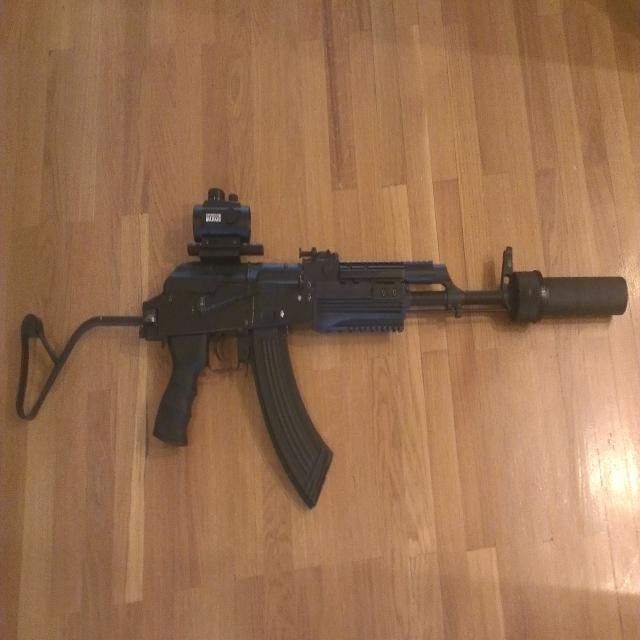firearm: (17, 189, 629, 512)
